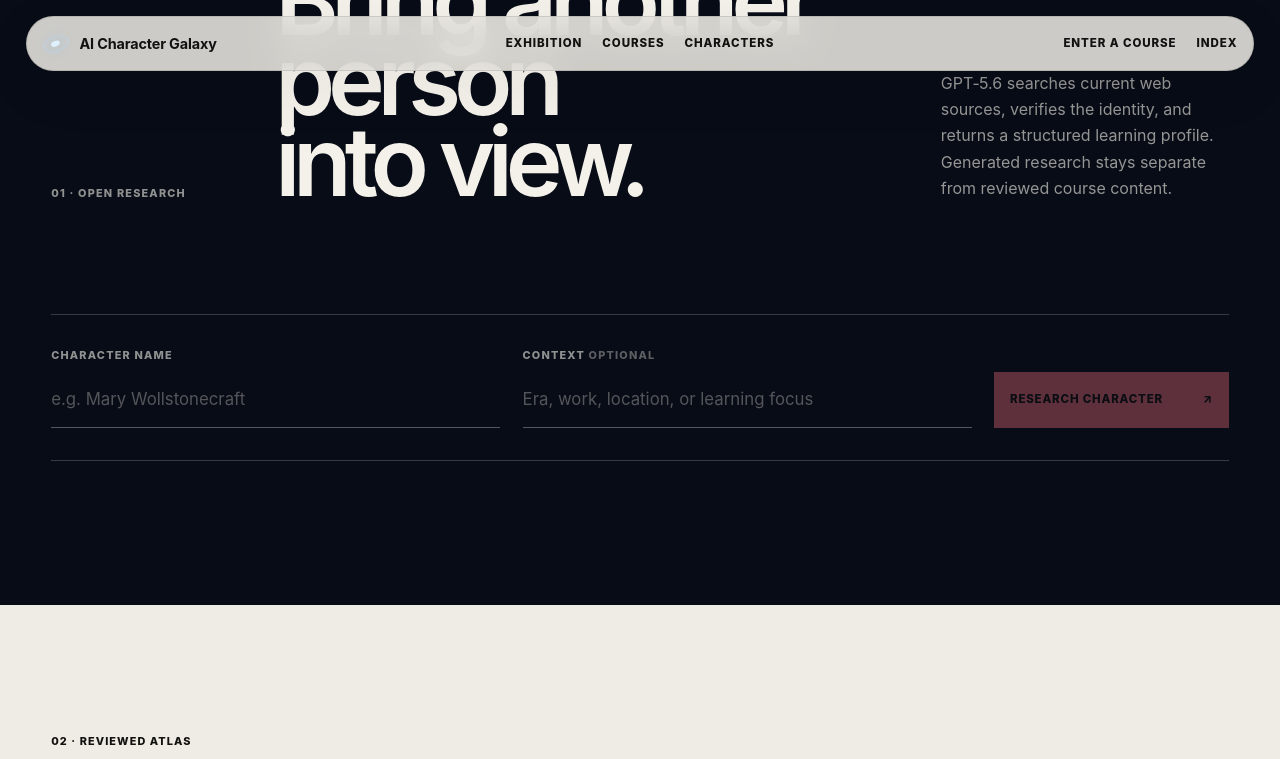
Test: CharacterAtlas › maps research status 422 to a useful message
The image size is (1280, 759).
(page scrolled)
Type "Uncertain Person" into the field labelled "Character name" at (276, 400), box [51,373,500,428]
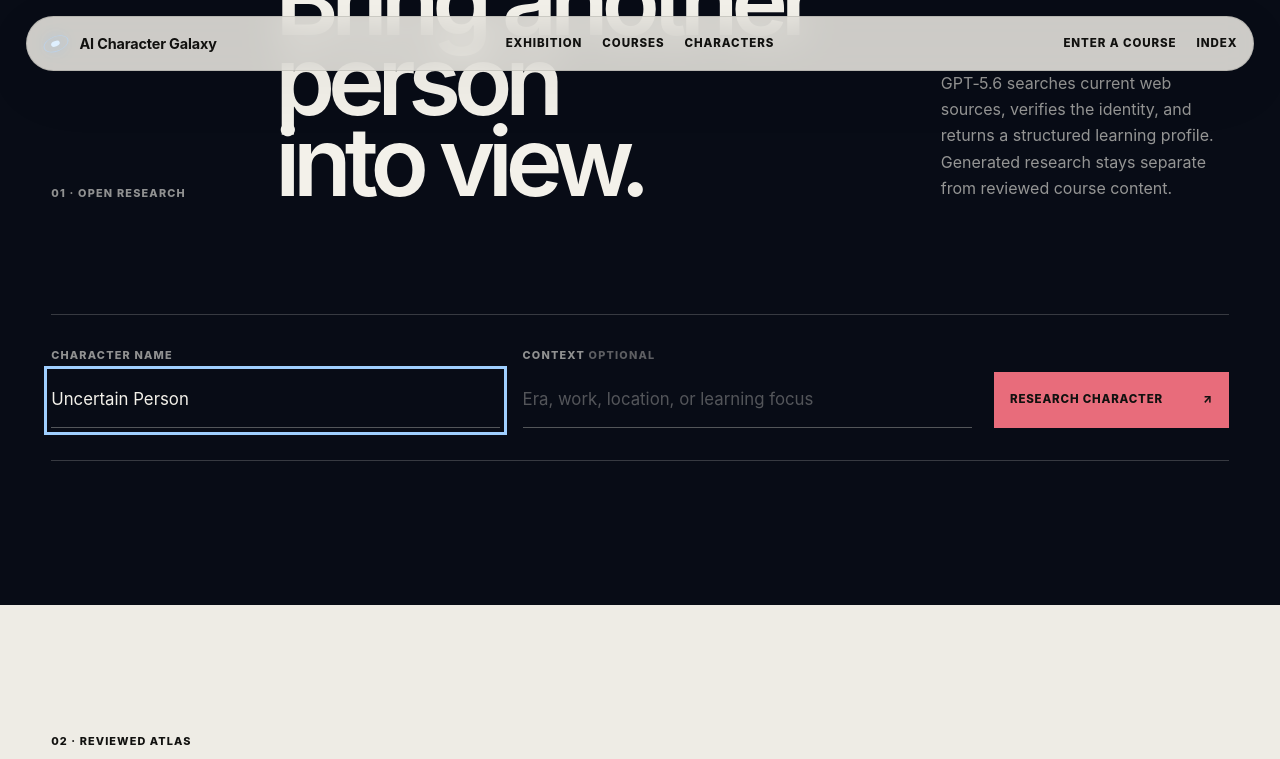
Click the button "Research character ↗" at (1111, 400), box [994,372,1229,428]
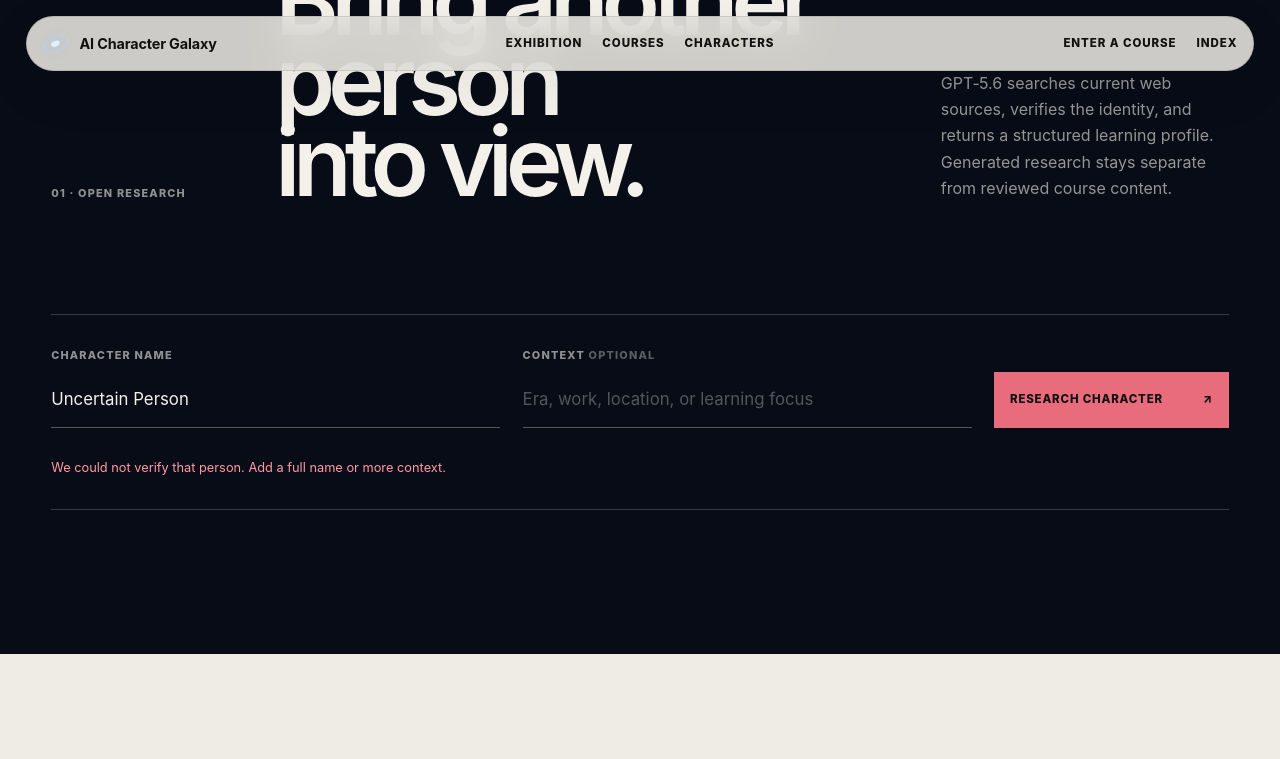
Result: the message shows "We could not verify that person" at [51,460,446,475]
